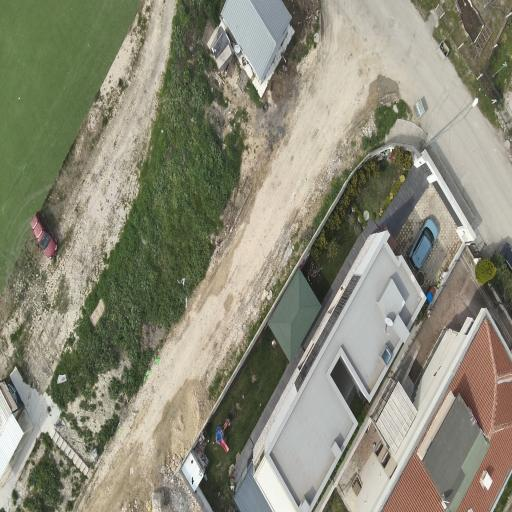car: (409, 218, 438, 270), (31, 212, 57, 258), (499, 242, 511, 271)
